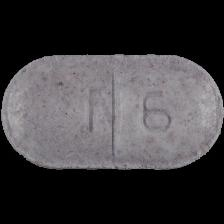55289-082: (0, 0, 224, 224)
